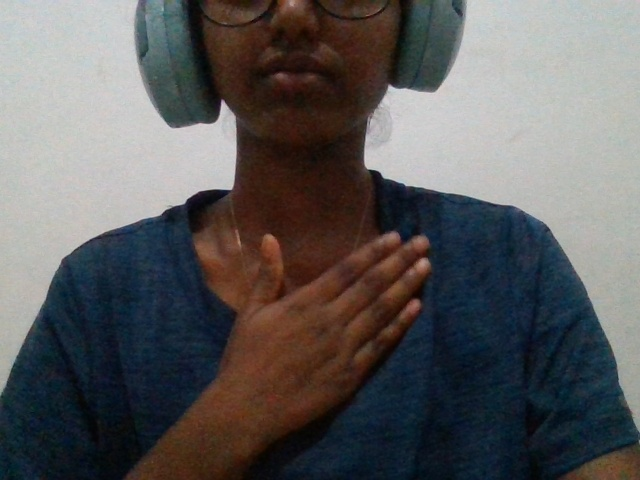Please: (200, 217, 497, 454)
